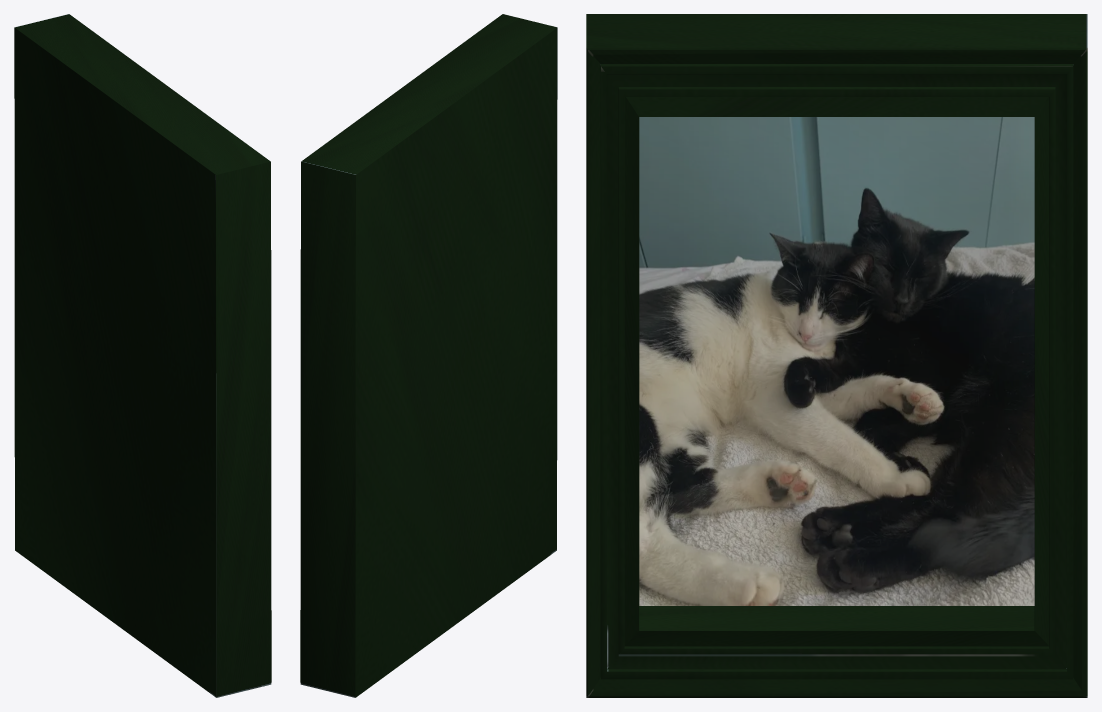
File: loucatpictureframe.fbx
3 views of the same model, side by side, from view 1: azimuth 30°, elevation 25°; view 2: azimuth 150°, elevation 25°; view 3: azimuth 270°, elevation 25° (orthographic). The views are drawn at different scales.
Visible parts, largest first — view 1: Cube.011; view 2: Cube.011; view 3: Cube.011.
Boxes of the visible parts, left/top/right/bottom form: Cube.011: left=14, top=14, right=271, bottom=697; Cube.011: left=300, top=14, right=557, bottom=697; Cube.011: left=586, top=14, right=1087, bottom=697.
Bounding box in the file's own units: 42.27 × 368 × 257.
